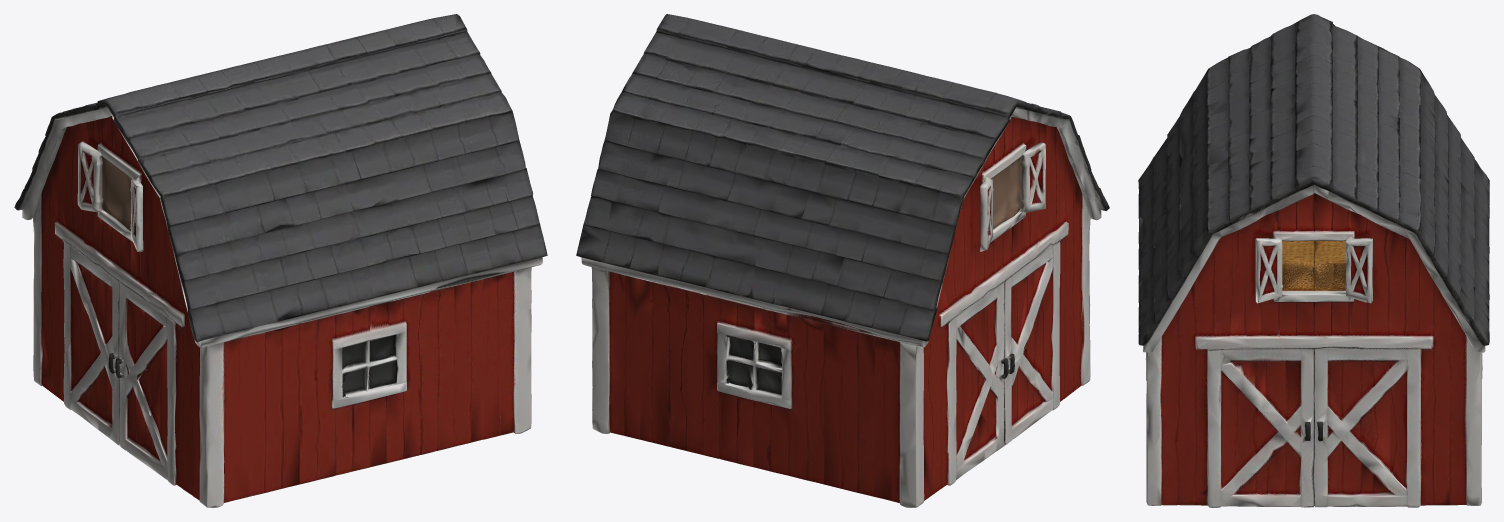
File: barn.glb
3 renders of one model, left to right at view 1: azimuth 30°, elevation 25°; view 2: azimuth 150°, elevation 25°; view 3: azimuth 270°, elevation 25°, orthographic. The views are drawn at different scales.
Parts seen in each view (by area): view 1: tripo_node_72312020-2975-40ea-aada-18f2a2929be2; view 2: tripo_node_72312020-2975-40ea-aada-18f2a2929be2; view 3: tripo_node_72312020-2975-40ea-aada-18f2a2929be2.
Part boxes in pixels (left/top/right/bottom): tripo_node_72312020-2975-40ea-aada-18f2a2929be2: left=14, top=14, right=547, bottom=507; tripo_node_72312020-2975-40ea-aada-18f2a2929be2: left=576, top=14, right=1109, bottom=507; tripo_node_72312020-2975-40ea-aada-18f2a2929be2: left=1138, top=14, right=1489, bottom=507.
Bounding box in the file's own units: 1 × 0.951 × 0.8986.
Materials: 1 (1 with a texture image).
